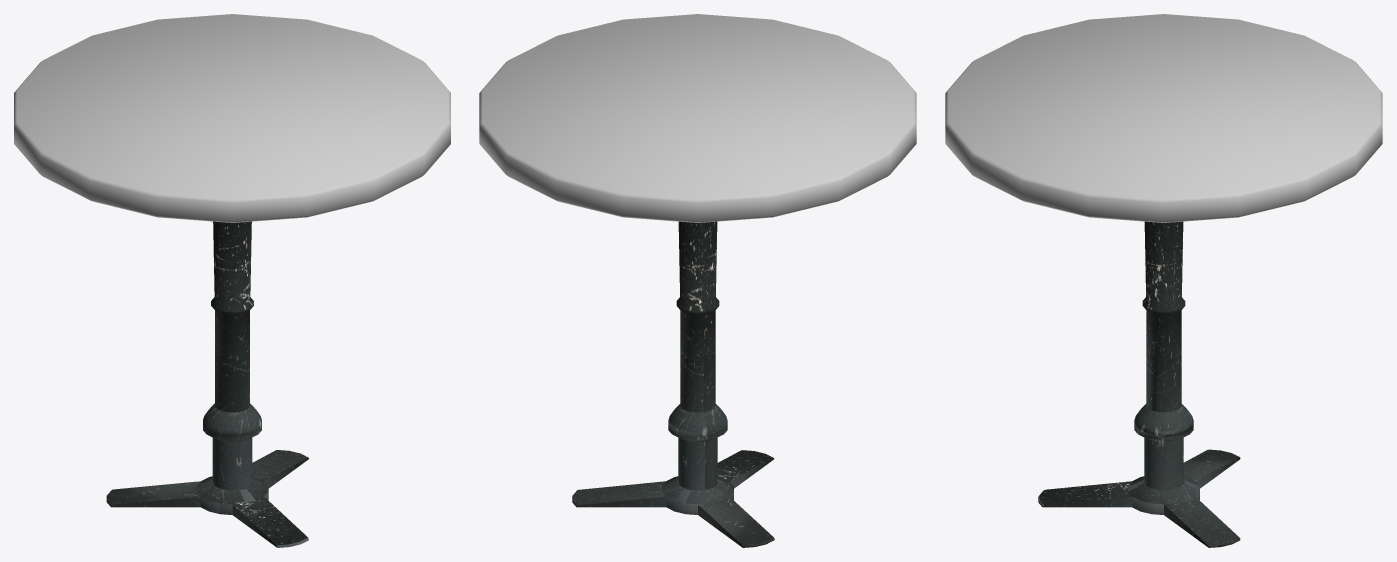
File: masa.FBX
3 views of the same model, side by side, from view 1: azimuth 30°, elevation 25°; view 2: azimuth 150°, elevation 25°; view 3: azimuth 270°, elevation 25° (orthographic).
Parts seen in each view (by area): view 1: Box001; view 2: Box001; view 3: Box001.
Boxes of the visible parts, <box> form: Box001: <box>14,14,450,547</box>; Box001: <box>479,14,916,547</box>; Box001: <box>945,14,1382,547</box>.
Bounding box in the file's own units: 40.2 × 39.31 × 39.59.
